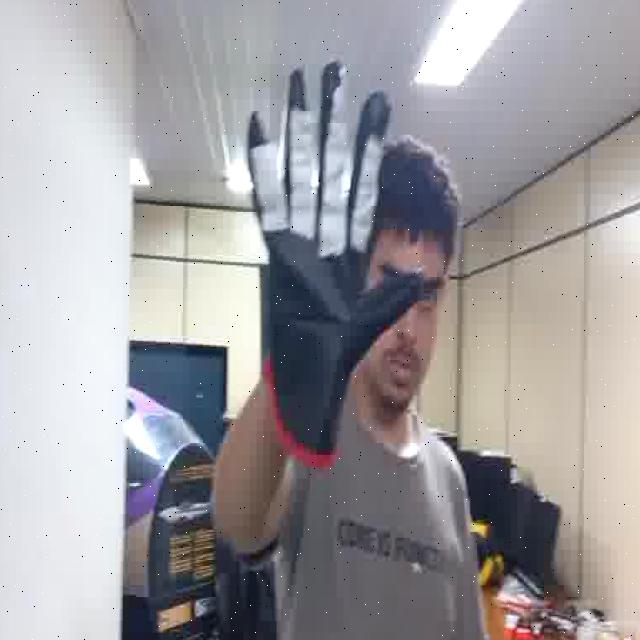Gloves: (246, 57, 424, 458)
